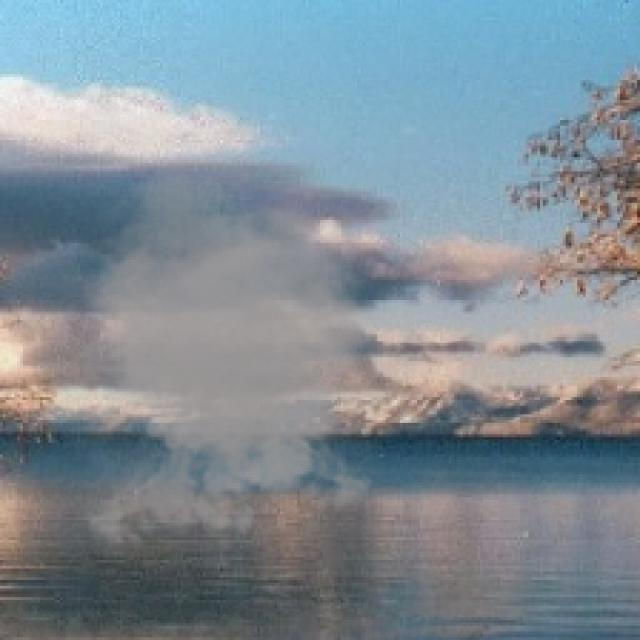smoke: (26, 166, 431, 557)
